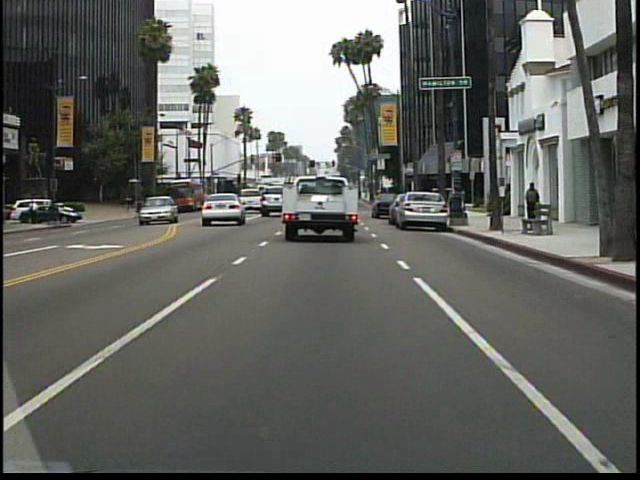person: (522, 180, 543, 227), (125, 190, 136, 216)
